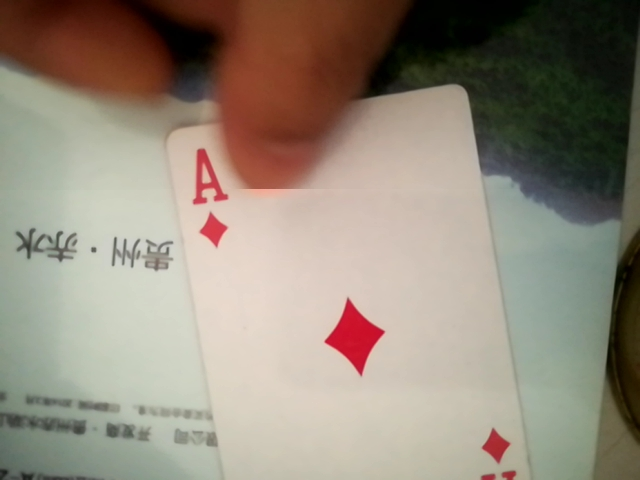fk a: (151, 82, 552, 479)
